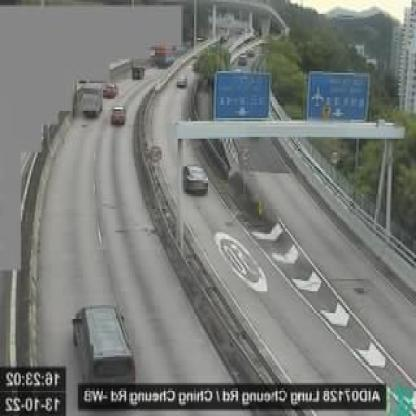Car: (71, 301, 134, 390), (184, 165, 208, 194), (110, 105, 126, 127), (104, 82, 118, 98), (174, 74, 188, 89)
Truck: (79, 82, 103, 119)
